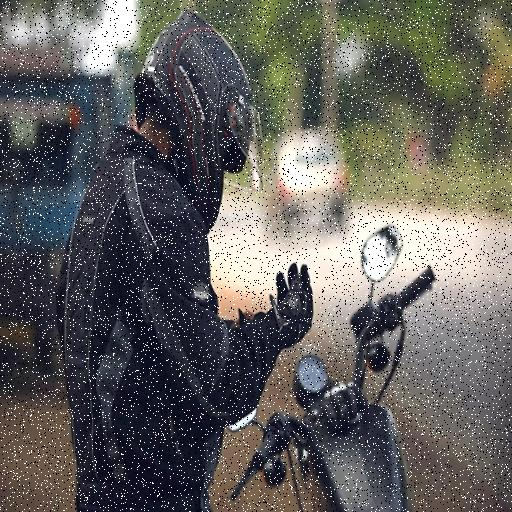Helmet: (137, 12, 265, 224)
